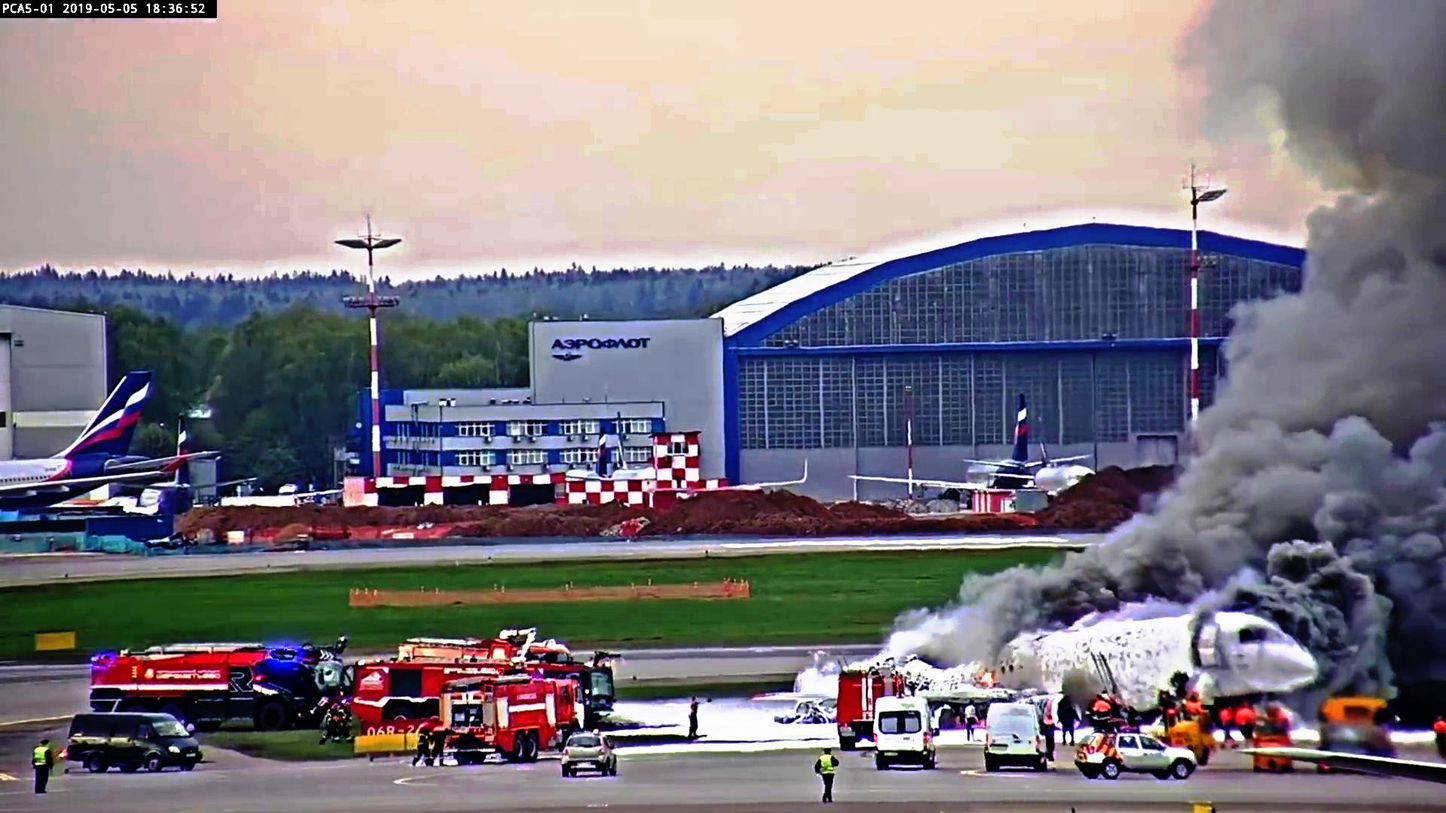smoke: (1237, 207, 1446, 520), (1261, 0, 1446, 206), (1268, 428, 1446, 624), (1015, 544, 1266, 604)
